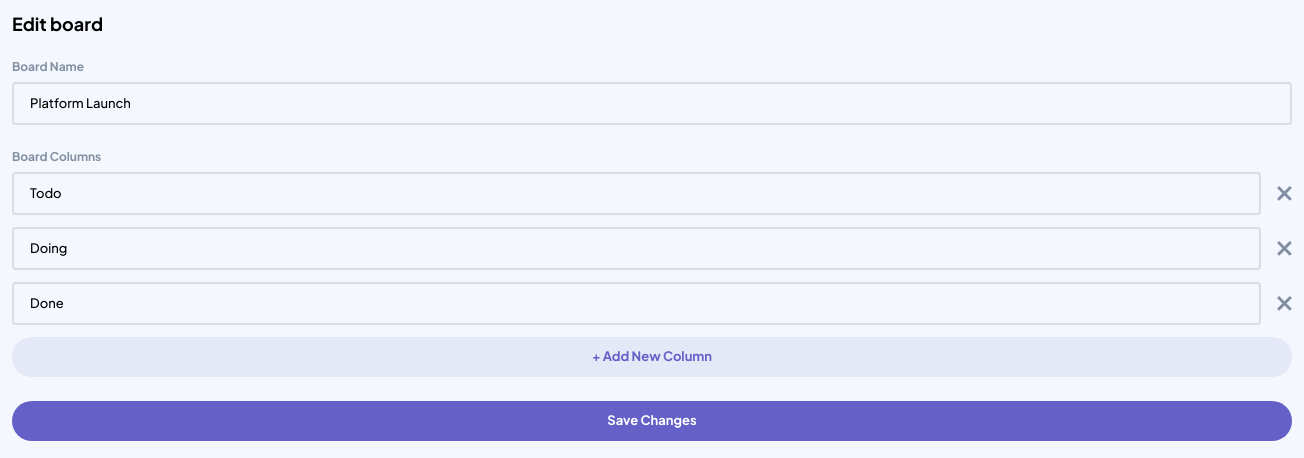
Test: Given an <EditBoardForm /> component › When it renders › It should show alert 'Already defined' when we write an existing board name in board name input
Replace the text in the field named "board name" with "Roadmap" at (652, 104), box [12,82,1292,125]
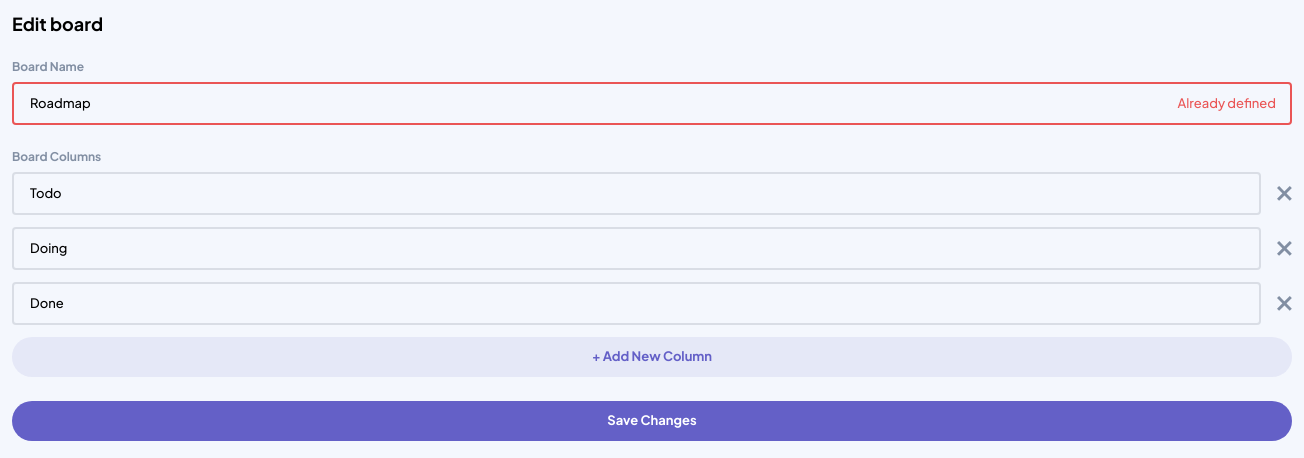
Now the message "Already defined" is shown, box [1178,94,1276,113]
